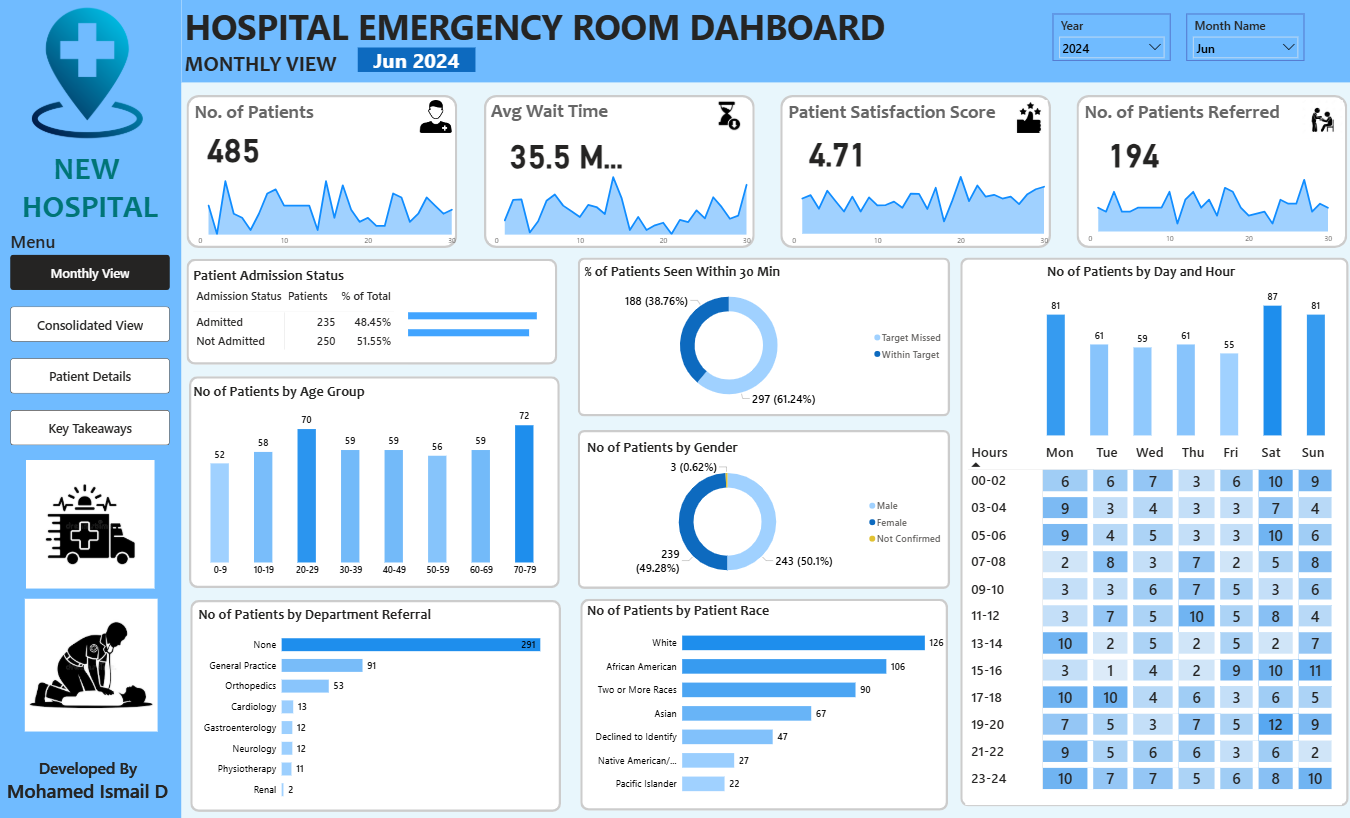

Layout of this report page (visuals, bound fields, positions):
{"tool":"powerbi","page":{"name":"Monthly View","canvas":[2300,1400],"ordinal":0},"visuals":[{"type":"shape","box":[319.5,161.5,460,260],"z":0},{"type":"shape","box":[0,0,309.8,1400],"z":1000},{"type":"shape","box":[309.8,0,1990.2,140],"z":2000},{"type":"textbox","box":[310,0,1215,100],"z":3000},{"type":"textbox","box":[310,80,297.5,60],"z":4000},{"type":"card","fields":{"Values":["Hospital ER_Data.No of Patients"]},"box":[310,217.5,177.5,65],"z":5000},{"type":"slicer","fields":{"Values":["Date Table.Year"]},"box":[1790,22.5,200,80],"z":6000},{"type":"slicer","fields":{"Values":["Date Table.Month Name"]},"box":[2017.5,22.5,200,80],"z":7000},{"type":"textbox","box":[327.5,165,225,60],"z":8000},{"type":"areaChart","fields":{"Category":["Date Table.Date.Variation.Date Hierarchy.Day"],"Y":["Hospital ER_Data.No of Patients"]},"box":[327.5,280,457.5,147.5],"z":9000},{"type":"card","fields":{"Values":["Min(Date Table.Month & Year)"]},"box":[609,81.4,199.7,41.9],"z":10000},{"type":"shape","box":[1830.6,161.5,460,260],"z":11000},{"type":"card","fields":{"Values":["Hospital ER_Data.No of Patient Referred"]},"box":[1839.1,225,177.5,66.6],"z":12000},{"type":"textbox","box":[1840,165,347.5,60],"z":13000},{"type":"areaChart","fields":{"Category":["Date Table.Date.Variation.Date Hierarchy.Day"],"Y":["Hospital ER_Data.No of Patient Referred"]},"box":[1839.1,279.3,434,145.5],"z":14000},{"type":"shape","box":[1326.9,161.5,460,260],"z":15000},{"type":"card","fields":{"Values":["Hospital ER_Data.Satisfaction Score"]},"box":[1335,222.5,177.5,67.5],"z":16000},{"type":"textbox","box":[1335,165,380,57.5],"z":17000},{"type":"areaChart","fields":{"Category":["Date Table.Date.Variation.Date Hierarchy.Day"],"Y":["Hospital ER_Data.Satisfaction Score"]},"box":[1335,282.5,455,145],"z":18000},{"type":"shape","box":[823.2,161.5,460,260],"z":19000},{"type":"card","fields":{"Values":["Hospital ER_Data.Avg Wait Time"]},"box":[860,227.5,207.5,65],"z":20000},{"type":"textbox","box":[830,162.5,225,60],"z":21000},{"type":"areaChart","fields":{"Category":["Date Table.Date.Variation.Date Hierarchy.Day"],"Y":["Avg(Hospital ER_Data.Patient Waittime)"]},"box":[830,280,455,147.5],"z":22000},{"type":"shape","box":[319.5,439.5,630,180],"z":23000},{"type":"pivotTable","title":"Patient Admission Status ","fields":{"Rows":["Hospital ER_Data.Admission Status"],"Values":["Hospital ER_Data.No of Patients1","Hospital ER_Data.No of Patients"]},"box":[325,452.5,620,167.5],"z":24000},{"type":"barChart","fields":{"Category":["Hospital ER_Data.Admission Status"],"Y":["Hospital ER_Data.No of Patients"]},"box":[690,502.5,272.5,90],"z":25000},{"type":"shape","box":[322,639.3,630,360],"z":26000},{"type":"clusteredColumnChart","fields":{"Category":["Hospital ER_Data.Age Group"],"Y":["Hospital ER_Data.No of Patients"]},"box":[325,650,620,340],"z":27000},{"type":"shape","box":[324.5,1019.5,630,360],"z":28000},{"type":"clusteredBarChart","fields":{"Category":["Hospital ER_Data.Department Referral"],"Y":["Hospital ER_Data.No of Patients"]},"box":[332.5,1027.5,622.5,345],"z":29000},{"type":"shape","box":[982.5,437.5,632.5,270],"z":30000},{"type":"donutChart","title":"% of Patients  Seen Within 30 Min","fields":{"Category":["Hospital ER_Data.Waittime Status"],"Y":["Hospital ER_Data.No of Patients"]},"box":[990,445,625,252.5],"z":31000},{"type":"shape","box":[982.5,730,632.5,270],"z":32000},{"type":"donutChart","title":"No of Patients by Gender ","fields":{"Y":["Hospital ER_Data.No of Patients"],"Category":["Hospital ER_Data.Patient Gender"]},"box":[995,745,620,252.5],"z":33000},{"type":"shape","box":[987.5,1017.5,625,360],"z":34000},{"type":"clusteredBarChart","fields":{"Y":["Hospital ER_Data.No of Patients"],"Category":["Hospital ER_Data.Patient Race"]},"box":[995,1022.5,617.5,345],"z":35000},{"type":"shape","box":[1632.5,437.5,660,932.5],"z":36000},{"type":"pivotTable","fields":{"Rows":["Hospital ER_Data.Waittime Interval"],"Columns":["Date Table.Day Name"],"Values":["Hospital ER_Data.No of Patients"]},"box":[1642.5,745,640,622.5],"z":37000},{"type":"columnChart","title":"No of Patients by Day and Hour","fields":{"Category":["Date Table.Day Name"],"Y":["Hospital ER_Data.No of Patients"]},"box":[1775,445,485,300],"z":38000},{"type":"image","box":[708.6,169.9,65.5,55.8],"z":39000},{"type":"image","box":[1215.8,169.9,51,53.4],"z":40000},{"type":"image","box":[1715.7,169.9,67.9,55.8],"z":41000},{"type":"image","box":[2215.6,169.9,67.9,65.5],"z":42000},{"type":"image","box":[0,12.5,300,222.5],"z":43000},{"type":"pageNavigator","title":"Menu ","box":[19.4,388.3,271.8,368.9],"z":43001},{"type":"textbox","box":[4.9,1281.3,300.9,118.9],"z":43002},{"type":"textbox","box":[4.9,1281.1,300.9,118.9],"z":43003},{"type":"image","box":[4.9,781.4,300.9,218.4],"z":43004},{"type":"image","box":[31.5,1016.8,249.9,225.7],"z":43005},{"type":"textbox","box":[4.9,247.5,300.9,140.7],"z":43006}]}

Visuals, with their boxes in screenshot pixels (x1, y1, x2, y2), scaled from the page's 2300x1400 canvas onto the 1350x818 screenshot:
shape: bbox=(188, 94, 458, 246)
shape: bbox=(0, 0, 182, 817)
shape: bbox=(182, 0, 1349, 82)
textbox: bbox=(182, 0, 895, 58)
textbox: bbox=(182, 47, 357, 82)
card - Hospital ER_Data.No of Patients: bbox=(182, 127, 286, 165)
slicer - Date Table.Year: bbox=(1051, 13, 1168, 60)
slicer - Date Table.Month Name: bbox=(1184, 13, 1302, 60)
textbox: bbox=(192, 96, 324, 131)
areaChart - Date Table.Date.Variation.Date Hierarchy.Day x Hospital ER_Data.No of Patients: bbox=(192, 164, 461, 250)
card - Min(Date Table.Month & Year): bbox=(357, 48, 475, 72)
shape: bbox=(1074, 94, 1344, 246)
card - Hospital ER_Data.No of Patient Referred: bbox=(1079, 131, 1184, 170)
textbox: bbox=(1080, 96, 1284, 131)
areaChart - Date Table.Date.Variation.Date Hierarchy.Day x Hospital ER_Data.No of Patient Referred: bbox=(1079, 163, 1334, 248)
shape: bbox=(779, 94, 1049, 246)
card - Hospital ER_Data.Satisfaction Score: bbox=(784, 130, 888, 169)
textbox: bbox=(784, 96, 1007, 130)
areaChart - Date Table.Date.Variation.Date Hierarchy.Day x Hospital ER_Data.Satisfaction Score: bbox=(784, 165, 1051, 250)
shape: bbox=(483, 94, 753, 246)
card - Hospital ER_Data.Avg Wait Time: bbox=(505, 133, 627, 171)
textbox: bbox=(487, 95, 619, 130)
areaChart - Date Table.Date.Variation.Date Hierarchy.Day x Avg(Hospital ER_Data.Patient Waittime): bbox=(487, 164, 754, 250)
shape: bbox=(188, 257, 557, 362)
"Patient Admission Status " pivotTable: bbox=(191, 264, 555, 362)
barChart - Hospital ER_Data.Admission Status x Hospital ER_Data.No of Patients: bbox=(405, 294, 565, 346)
shape: bbox=(189, 374, 559, 584)
clusteredColumnChart - Hospital ER_Data.Age Group x Hospital ER_Data.No of Patients: bbox=(191, 380, 555, 578)
shape: bbox=(190, 596, 560, 806)
clusteredBarChart - Hospital ER_Data.Department Referral x Hospital ER_Data.No of Patients: bbox=(195, 600, 561, 802)
shape: bbox=(577, 256, 948, 413)
"% of Patients  Seen Within 30 Min" donutChart: bbox=(581, 260, 948, 408)
shape: bbox=(577, 427, 948, 584)
"No of Patients by Gender " donutChart: bbox=(584, 435, 948, 583)
shape: bbox=(580, 595, 946, 805)
clusteredBarChart - Hospital ER_Data.No of Patients x Hospital ER_Data.Patient Race: bbox=(584, 597, 946, 799)
shape: bbox=(958, 256, 1346, 800)
pivotTable - Hospital ER_Data.Waittime Interval x Date Table.Day Name: bbox=(964, 435, 1340, 799)
"No of Patients by Day and Hour" columnChart: bbox=(1042, 260, 1327, 435)
image: bbox=(416, 99, 454, 132)
image: bbox=(714, 99, 744, 130)
image: bbox=(1007, 99, 1047, 132)
image: bbox=(1300, 99, 1340, 138)
image: bbox=(0, 7, 176, 137)
"Menu " pageNavigator: bbox=(11, 227, 171, 442)
textbox: bbox=(3, 749, 179, 817)
textbox: bbox=(3, 749, 179, 817)
image: bbox=(3, 457, 179, 584)
image: bbox=(18, 594, 165, 726)
textbox: bbox=(3, 145, 179, 227)
